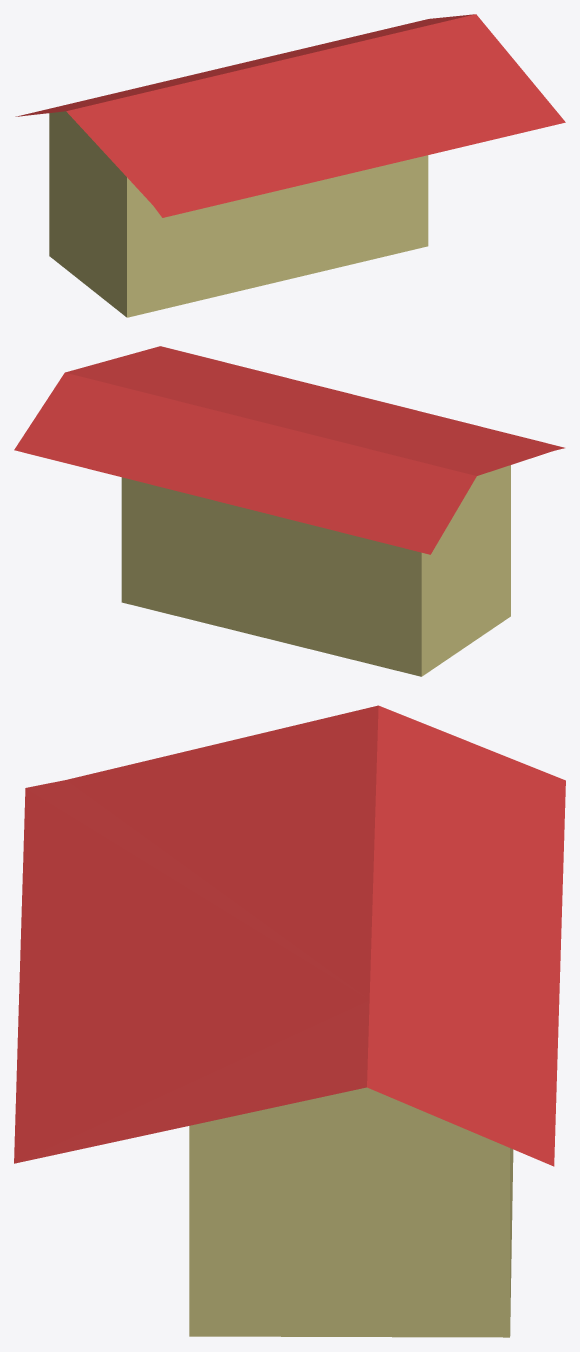
The picture shows the model from 3 angles, top to bottom: view 1: azimuth 30°, elevation 25°; view 2: azimuth 150°, elevation 25°; view 3: azimuth 270°, elevation 25°; orthographic projection. The views are drawn at different scales.
Bounding box in the file's own units: 15.81 × 9.55 × 6.44.
